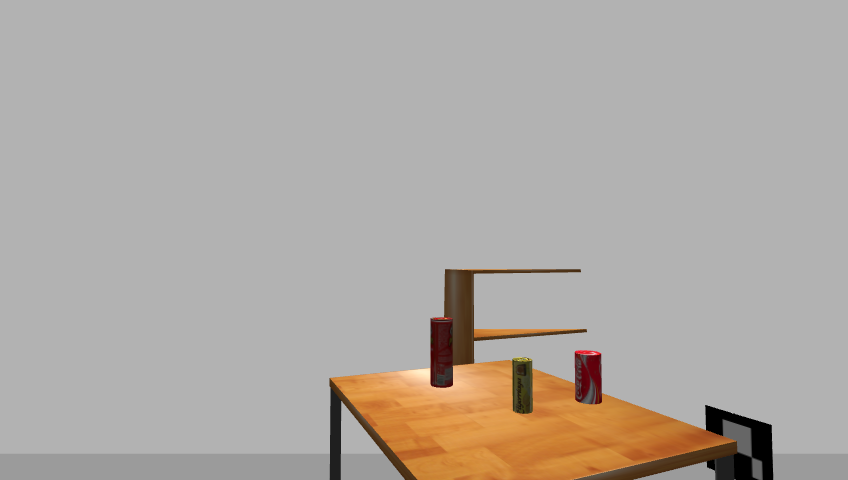aruco marker: (699, 405, 779, 480)
biscuits pack: (511, 357, 534, 415)
bookshelf: (439, 264, 589, 432)
coke can: (572, 350, 604, 405)
dinner table: (321, 364, 746, 480)
pringles can: (428, 316, 455, 389)
